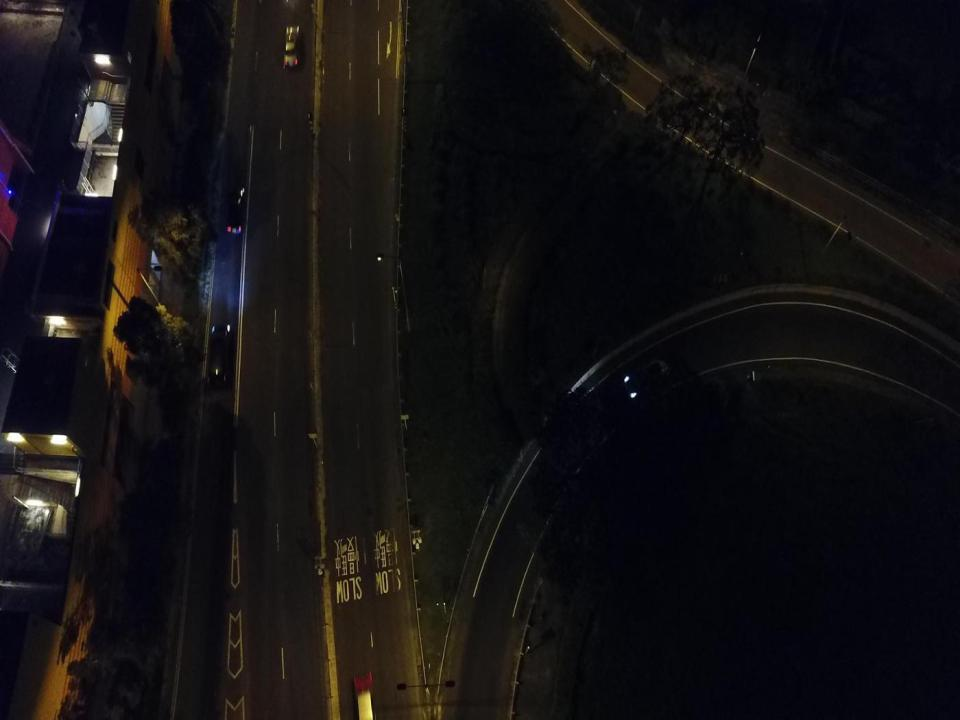car: (625, 357, 670, 406), (208, 323, 231, 391), (223, 184, 247, 240), (352, 669, 378, 719), (280, 24, 300, 75)
